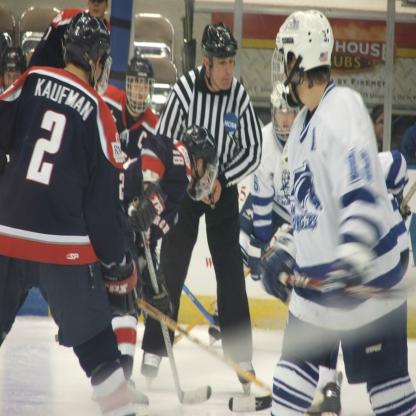Helmet: (273, 6, 341, 114), (60, 12, 114, 92), (180, 126, 219, 204), (195, 23, 238, 90), (120, 58, 156, 116), (265, 81, 297, 143), (0, 44, 26, 91)
